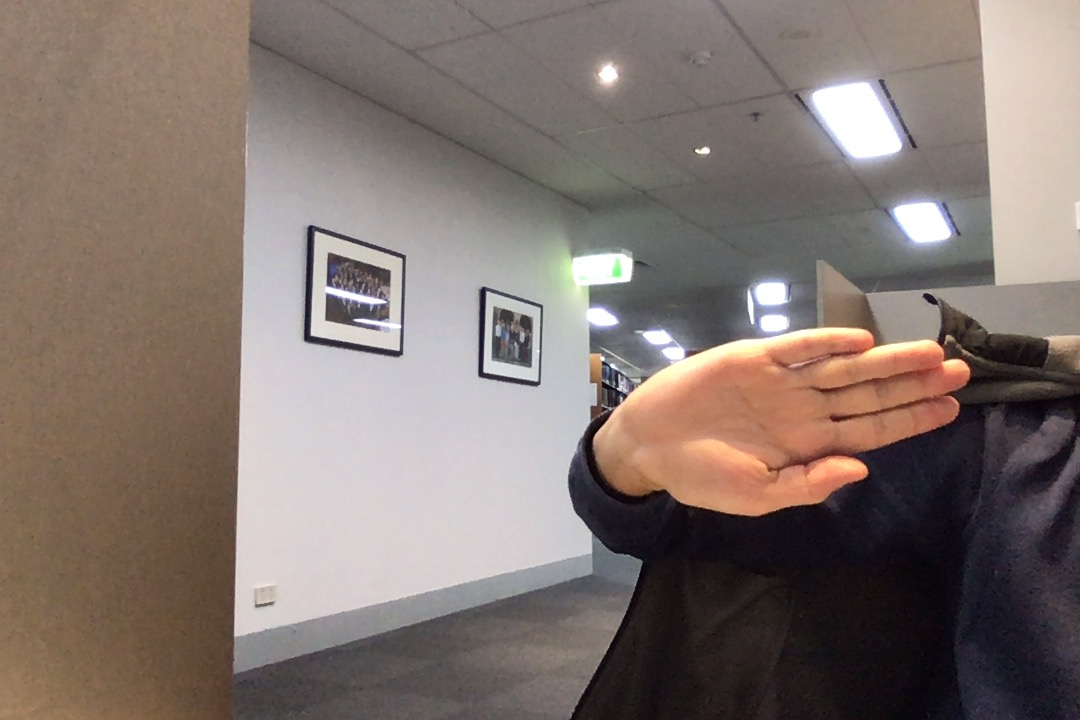palmhand: (607, 319, 978, 523)
